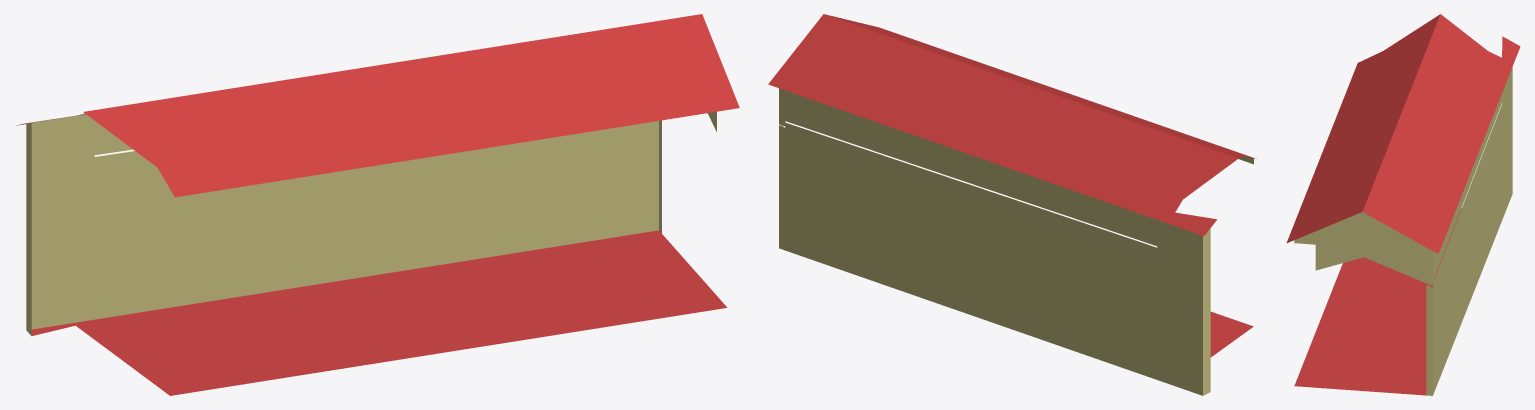
3 renders of one model, left to right at view 1: azimuth 30°, elevation 25°; view 2: azimuth 150°, elevation 25°; view 3: azimuth 270°, elevation 25°, orthographic. The views are drawn at different scales.
Visible parts, largest first — view 1: group_5, group_3, group_6; view 2: group_5, group_3, group_6, group_4; view 3: group_3, group_5, group_6, group_4.
Boxes of the visible parts, bbox=[...] form: group_5: bbox=[26, 111, 716, 335]; group_3: bbox=[16, 14, 739, 197]; group_6: bbox=[31, 230, 727, 395]; group_5: bbox=[779, 88, 1253, 395]; group_3: bbox=[768, 14, 1256, 235]; group_6: bbox=[1210, 311, 1253, 357]; group_4: bbox=[769, 17, 1215, 223]; group_3: bbox=[1286, 14, 1520, 253]; group_5: bbox=[1294, 67, 1512, 395]; group_6: bbox=[1294, 208, 1461, 395]; group_4: bbox=[1294, 38, 1509, 252].
Size of the model in its own units: 36.01 by 17.04 by 14.62.
